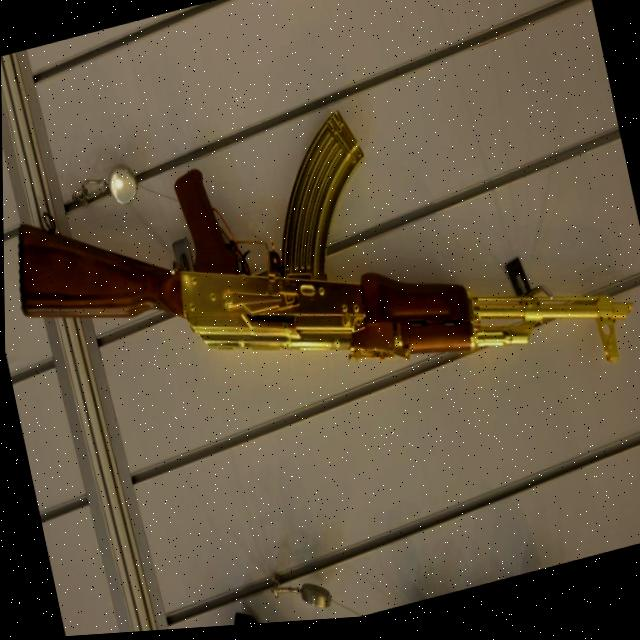firearm: (1, 51, 640, 511)
